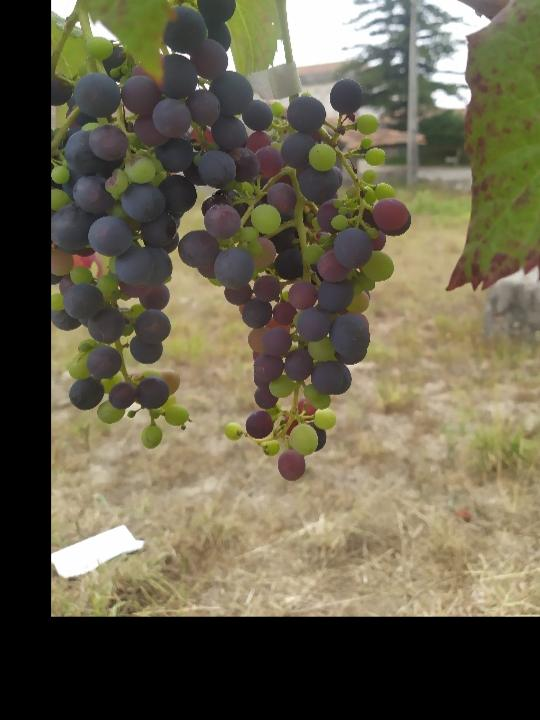grape: (51, 0, 270, 449), (175, 80, 415, 485)
